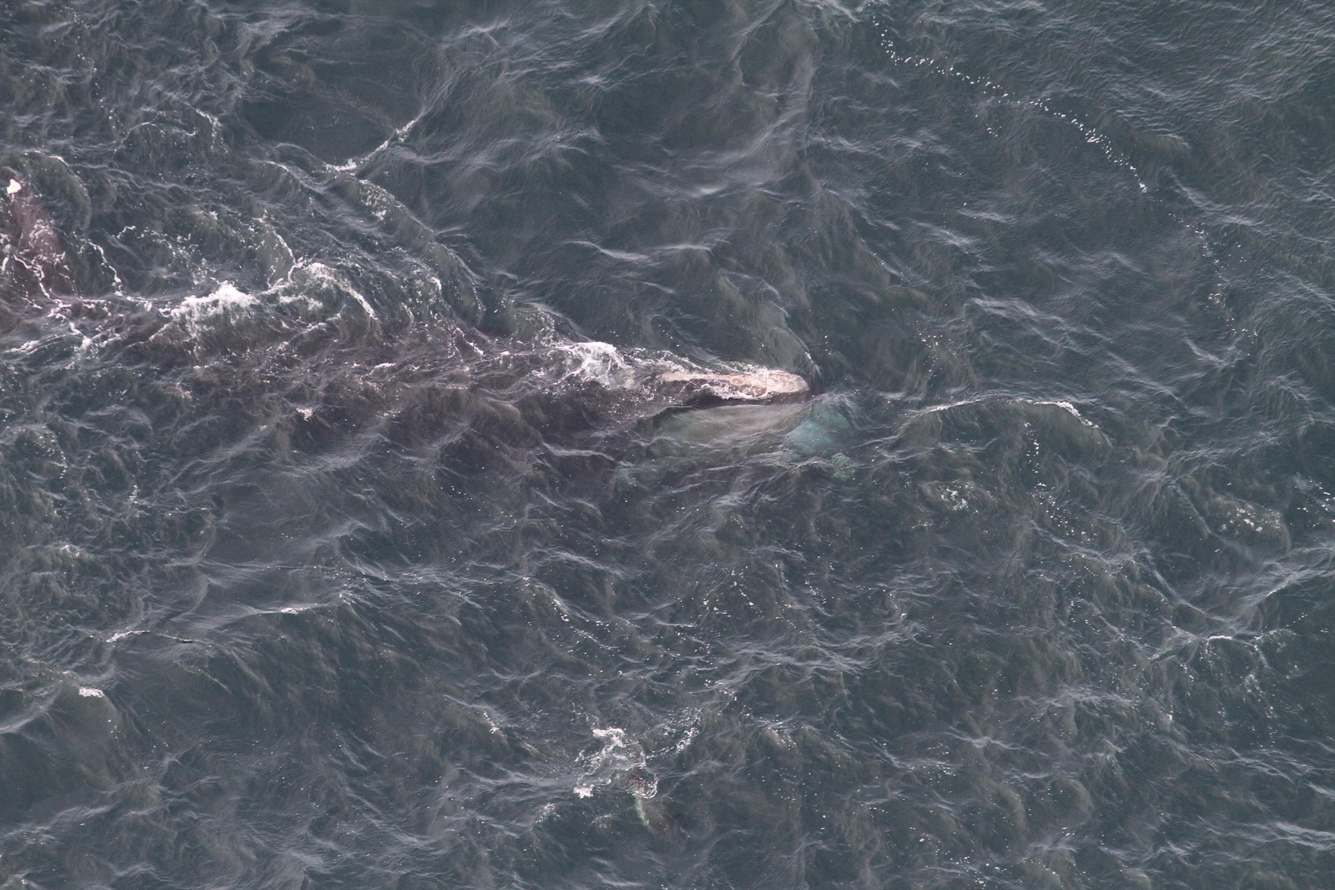whale: (567, 380, 888, 548)
